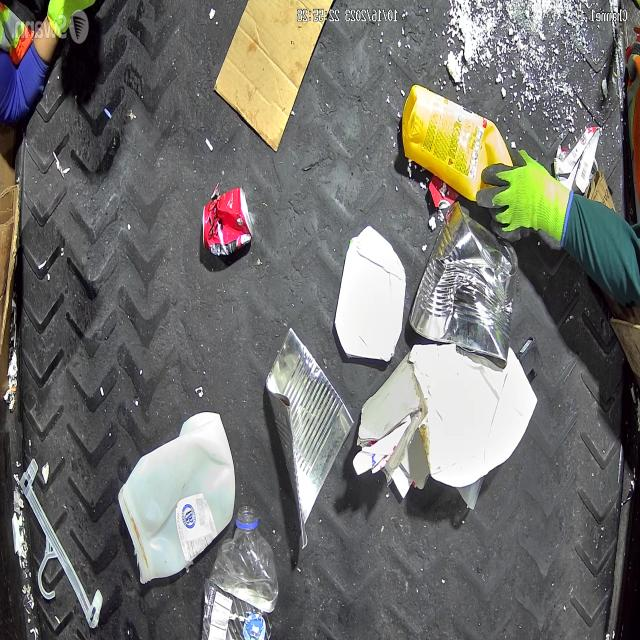can: (265, 327, 354, 551), (408, 198, 520, 370), (202, 185, 253, 256)
milk_jug: (118, 412, 236, 585)
non_white_jug: (401, 84, 514, 202)
plastic_bottle: (202, 506, 278, 640)
